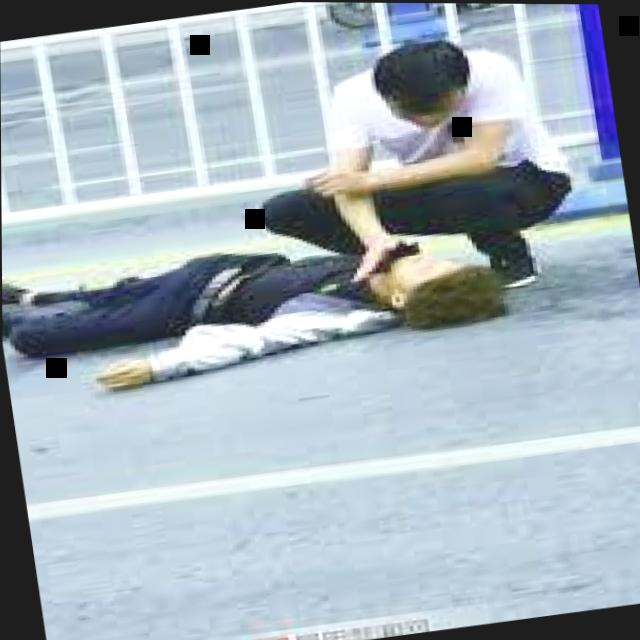Fall-Detected: (1, 192, 504, 403)
